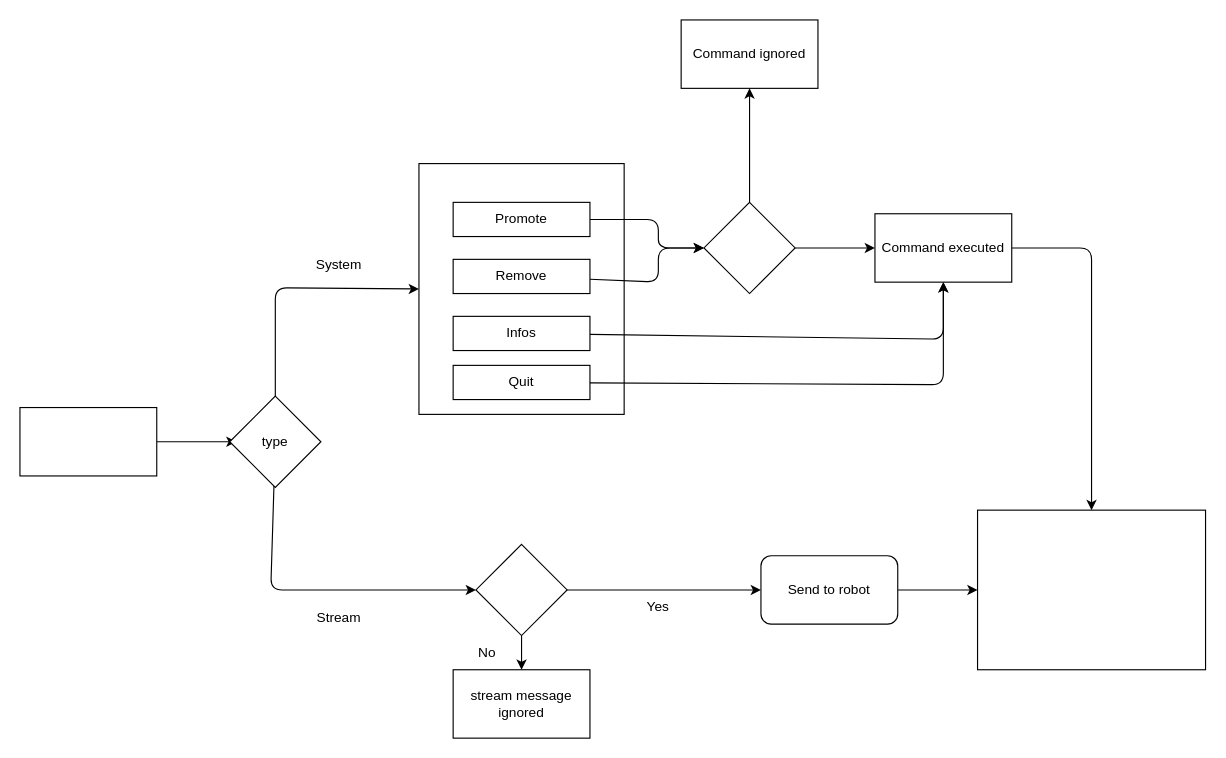
Some shapes in this 1226 by 758 pixel diagram are drawn without their labels. Here are the shapes that lost their labels. From the top down, the centre of each, then its label:
point (749, 247): is owner
point (88, 441): Message received
point (521, 589): allowed ?
point (1091, 589): Send to other clients
